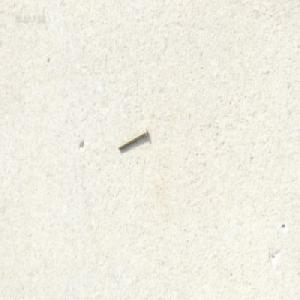Bolt: (117, 127, 148, 151)
